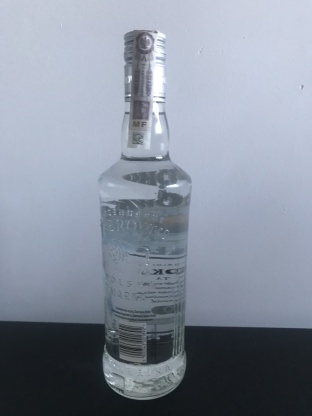nakretka: (120, 24, 168, 106)
